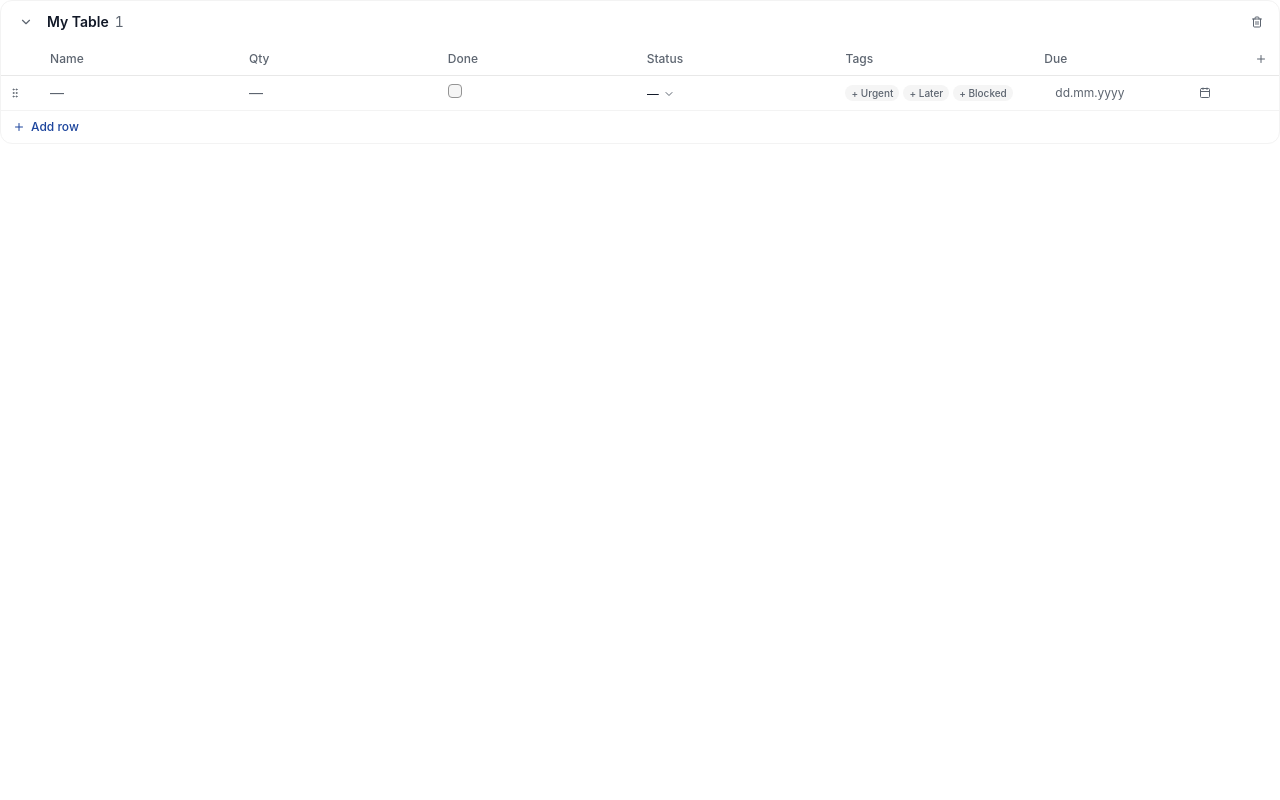
NamedTable column editor popover › shows an editable options section for a select column, seeded from the column's options
What coordinates should you click on to do the following:
click the button "Status"
I would click on:
 (665, 59)
Its box is [647,51,683,67].
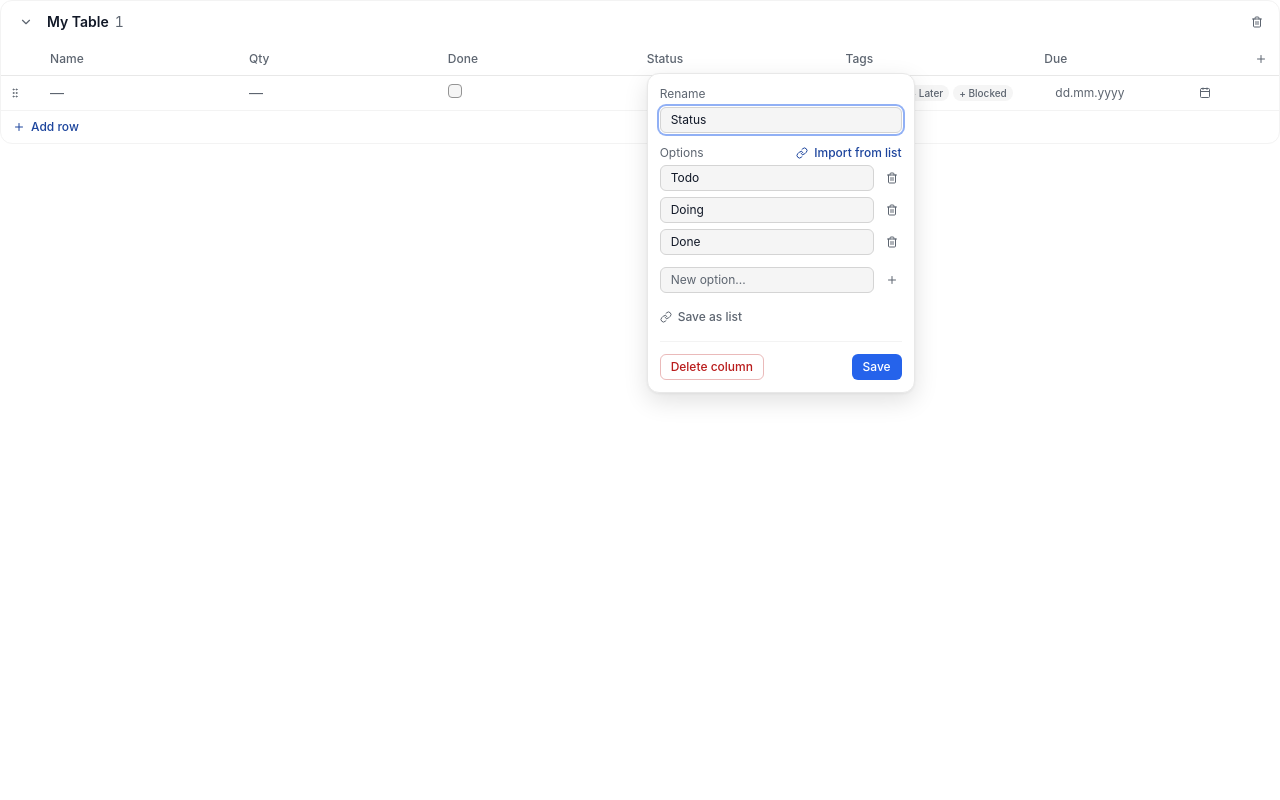
expect the text "Options" is shown: met, box [660,145,704,161]
expect the field showing "Todo" is shown: met, box [660,165,874,191]
expect the field showing "Doing" is shown: met, box [660,197,874,223]
